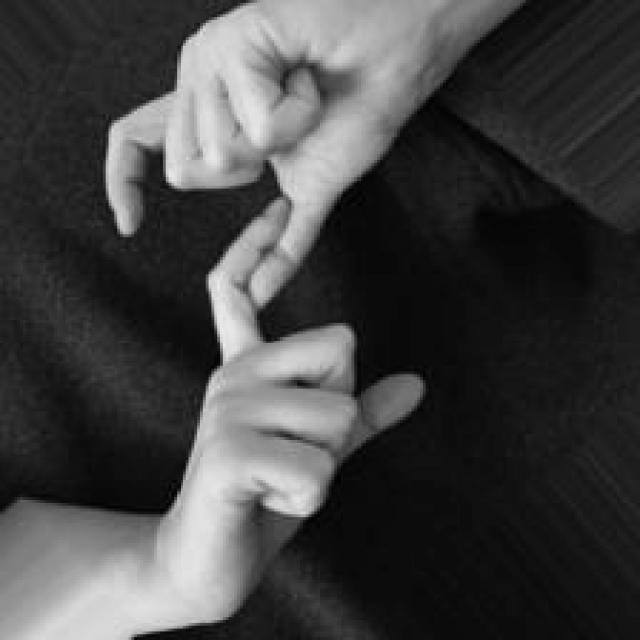S: (98, 2, 434, 640)
